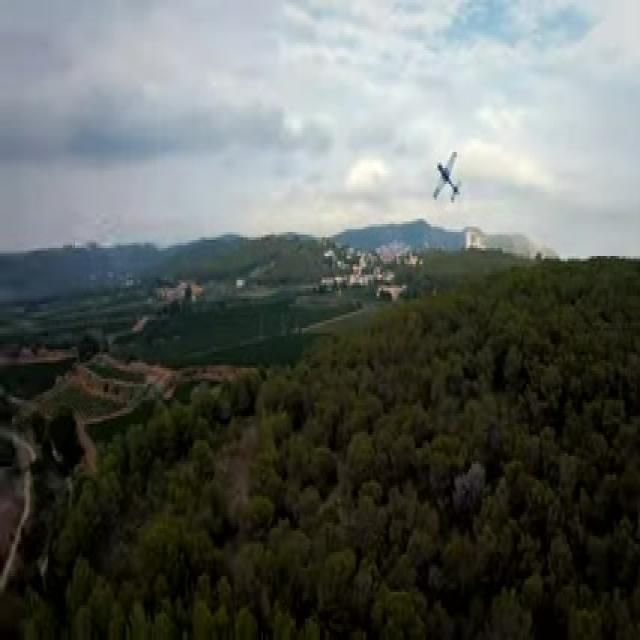iha: (432, 148, 465, 206)
